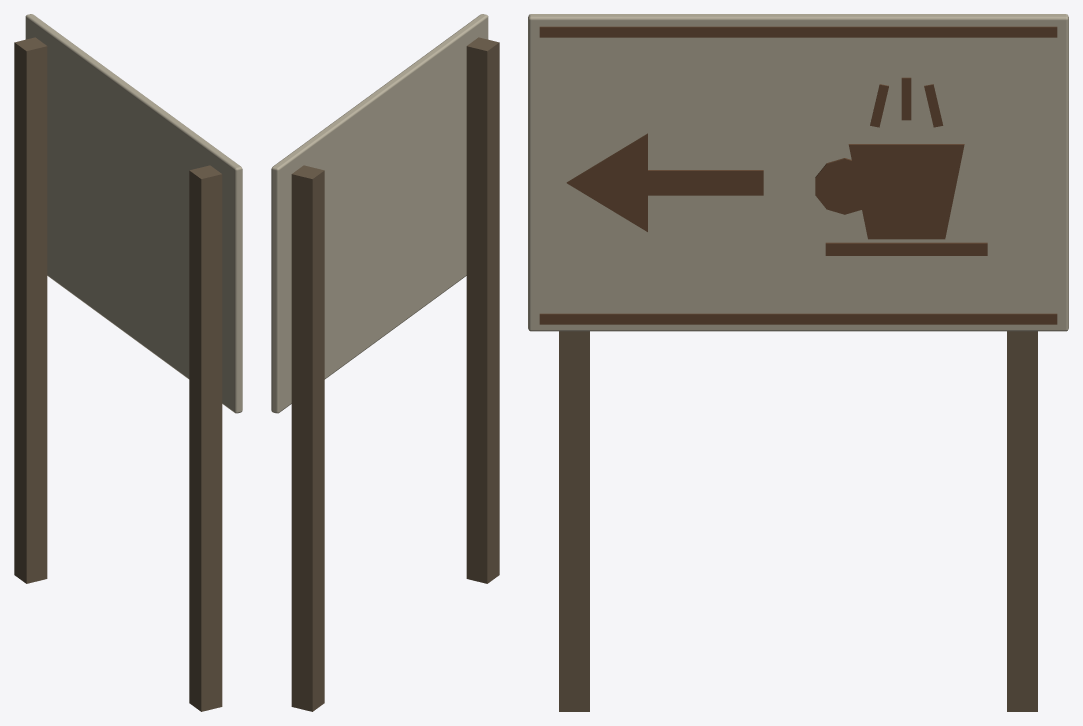
The model's file is SM_Prop_road_cafesign_2.glb.
3 views of the same model, side by side, from view 1: azimuth 30°, elevation 25°; view 2: azimuth 150°, elevation 25°; view 3: azimuth 270°, elevation 25° (orthographic). The views are drawn at different scales.
Visible parts, largest first — view 1: SM_Prop_road_cafesign_2; view 2: SM_Prop_road_cafesign_2; view 3: SM_Prop_road_cafesign_2.
Part boxes in pixels (<box>): SM_Prop_road_cafesign_2: <box>14,14,242,711</box>; SM_Prop_road_cafesign_2: <box>271,14,499,711</box>; SM_Prop_road_cafesign_2: <box>528,14,1068,711</box>.
Size of the model in its own units: 0.122 by 2 by 1.4.
